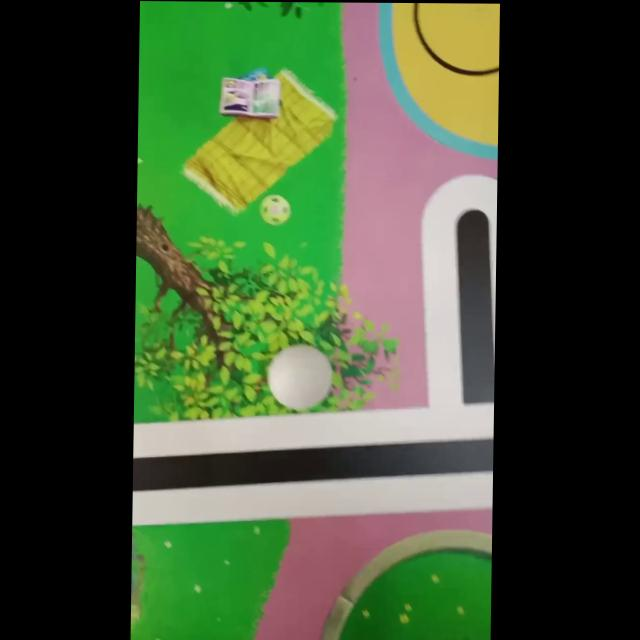white ball: (266, 342, 333, 411)
